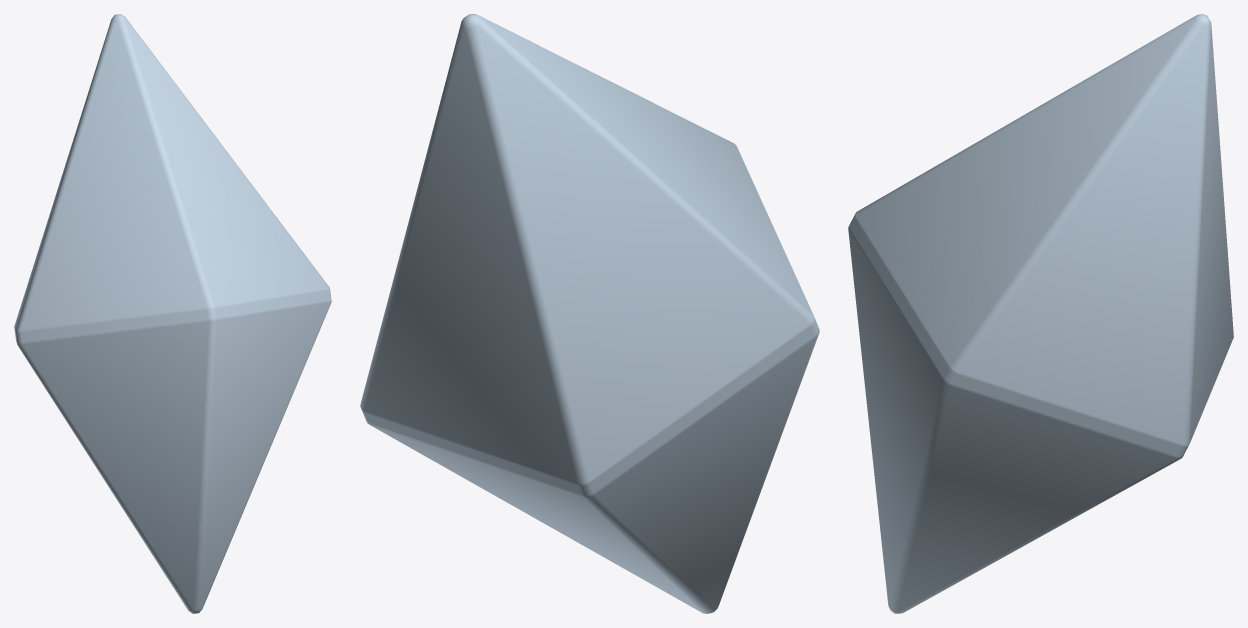
The model's file is crystal.glb.
3 views of the same model, side by side, from view 1: azimuth 30°, elevation 25°; view 2: azimuth 150°, elevation 25°; view 3: azimuth 270°, elevation 25° (orthographic). The views are drawn at different scales.
Parts seen in each view (by area): view 1: Crystal; view 2: Crystal; view 3: Crystal.
Part boxes in pixels (x1=…): Crystal: x1=14, y1=14, x2=331, y2=613; Crystal: x1=360, y1=14, x2=819, y2=613; Crystal: x1=848, y1=14, x2=1233, y2=613.
Size of the model in its own units: 0.7328 by 1.23 by 0.6847.
